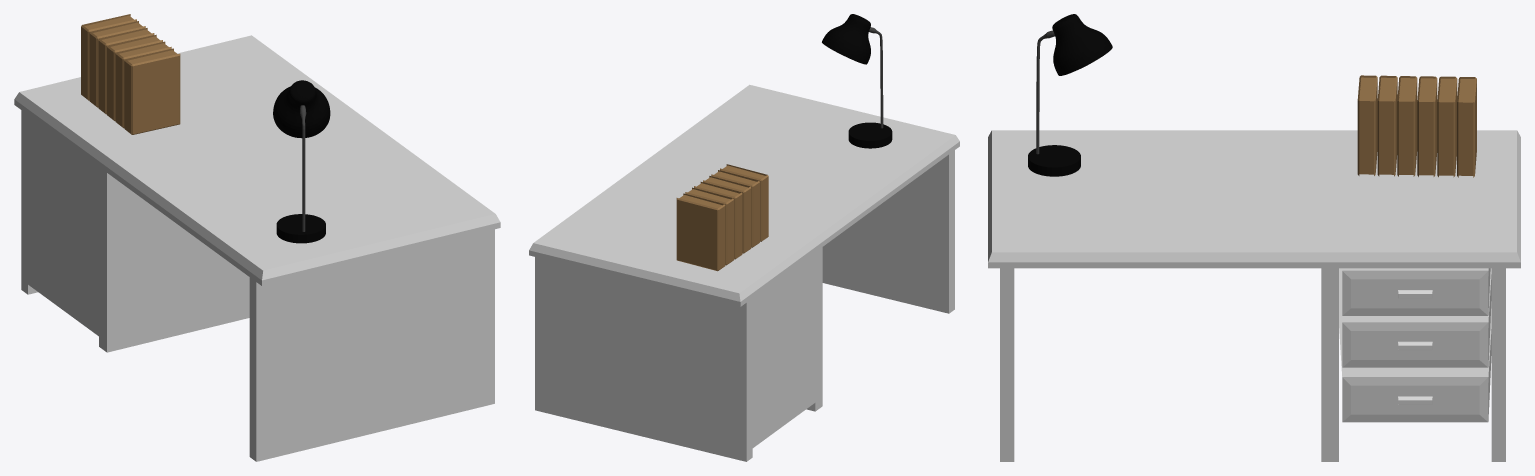
The model's file is Detectivetable.fbx.
The picture shows the model from 3 angles, left to right: view 1: azimuth 30°, elevation 25°; view 2: azimuth 150°, elevation 25°; view 3: azimuth 270°, elevation 25°; orthographic projection. The views are drawn at different scales.
Visible parts, largest first — view 1: Cube, Cube.001, base; view 2: Cube, Cube.001, base; view 3: Cube, Cube.001, base.
Boxes of the visible parts, bbox=[...] form: Cube: bbox=[14, 35, 500, 461]; Cube.001: bbox=[81, 14, 180, 134]; base: bbox=[273, 80, 330, 243]; Cube: bbox=[529, 84, 959, 461]; Cube.001: bbox=[676, 164, 768, 271]; base: bbox=[822, 14, 892, 148]; Cube: bbox=[988, 130, 1520, 461]; Cube.001: bbox=[1357, 75, 1476, 177]; base: bbox=[1028, 14, 1112, 176].
Size of the model in its own units: 473 by 638 by 850.
